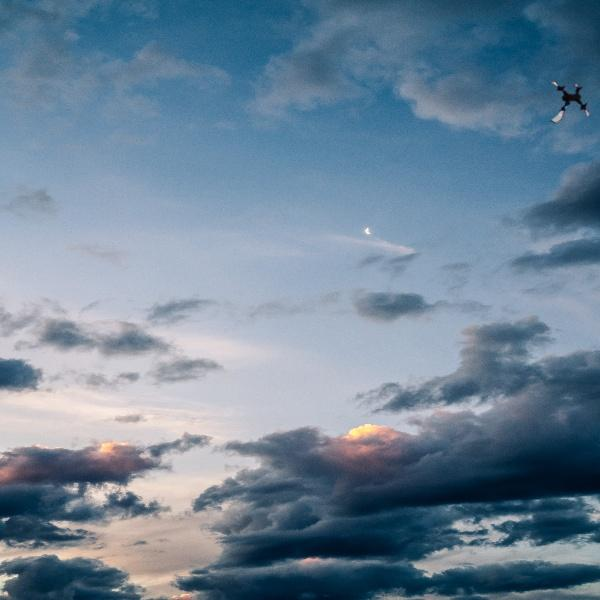drone: (538, 77, 592, 131)
